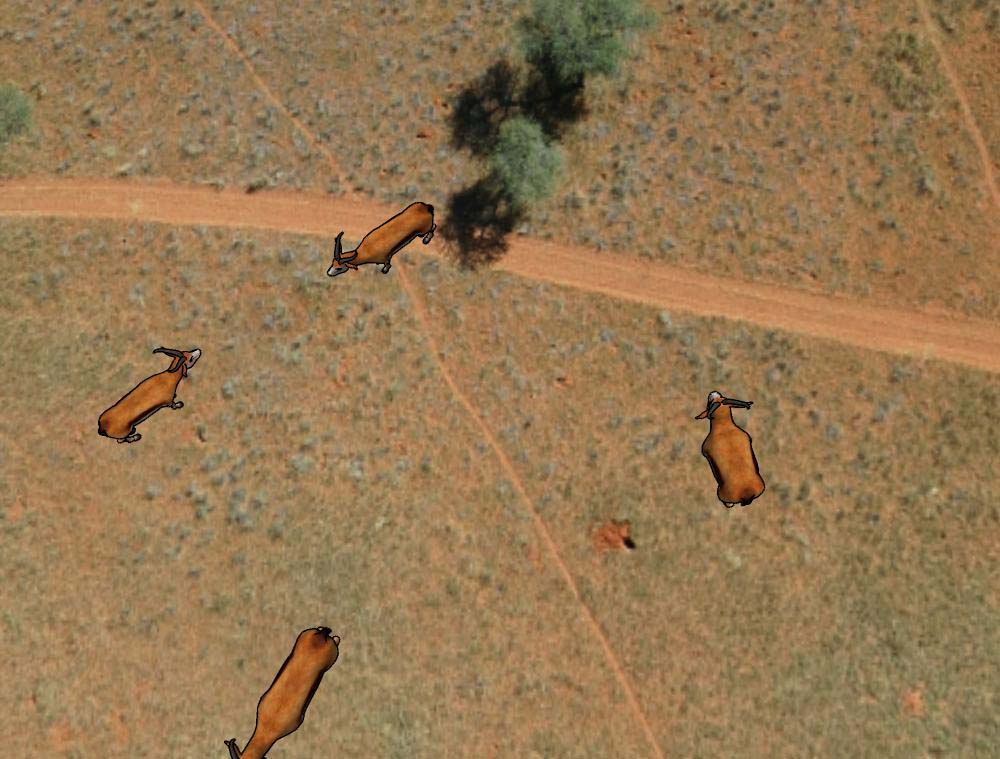springbok: (220, 623, 344, 759), (91, 342, 201, 444), (694, 387, 770, 510), (326, 197, 438, 278)
